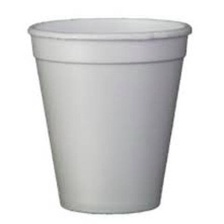paper_cup: (21, 12, 196, 219)
